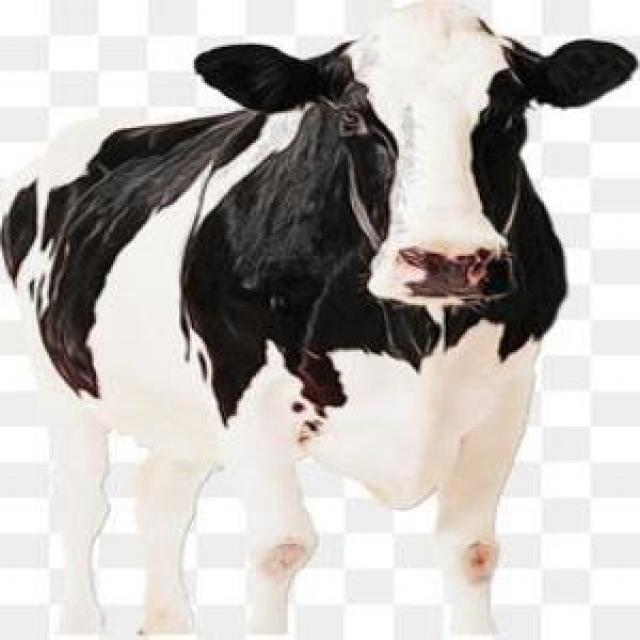cow: (0, 2, 636, 640)
